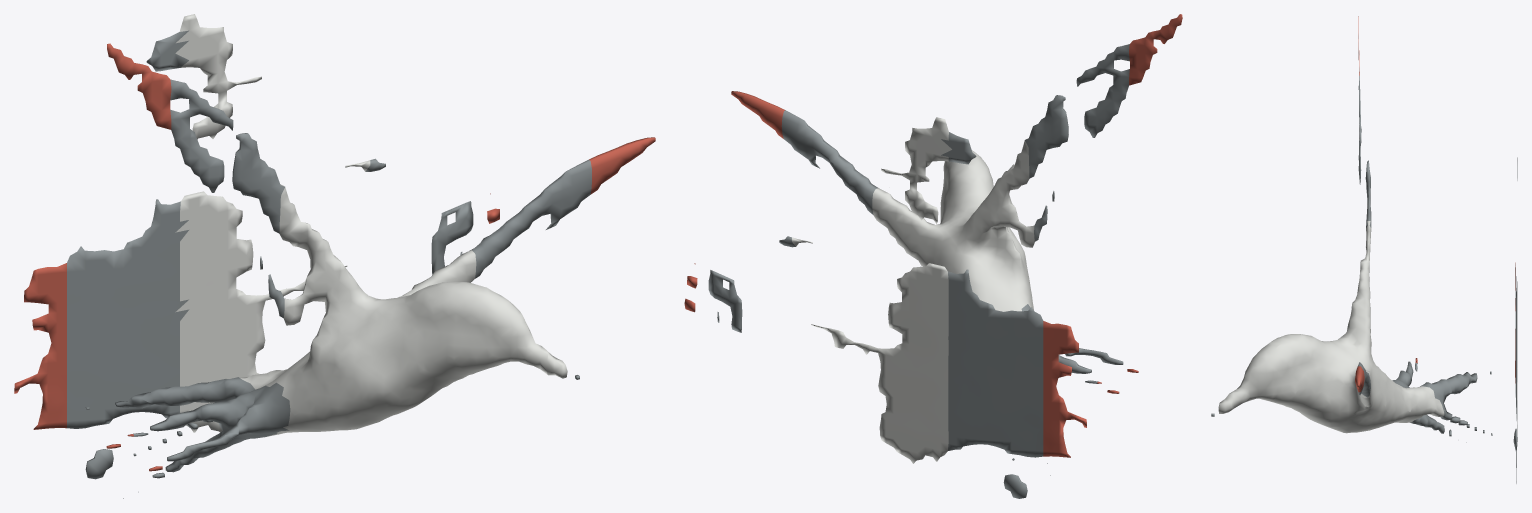
File: gliding_02.glb
3 views of the same model, side by side, from view 1: azimuth 30°, elevation 25°; view 2: azimuth 150°, elevation 25°; view 3: azimuth 270°, elevation 25° (orthographic). The views are drawn at different scales.
Visible parts, largest first — view 1: common_tern_voxel_remeshed_gliding_02; view 2: common_tern_voxel_remeshed_gliding_02; view 3: common_tern_voxel_remeshed_gliding_02.
Boxes of the visible parts, bbox=[...] form: common_tern_voxel_remeshed_gliding_02: bbox=[14, 14, 655, 498]; common_tern_voxel_remeshed_gliding_02: bbox=[684, 14, 1182, 498]; common_tern_voxel_remeshed_gliding_02: bbox=[1211, 16, 1517, 483].
Size of the model in its own units: 1.13 by 1.06 by 0.7318.
